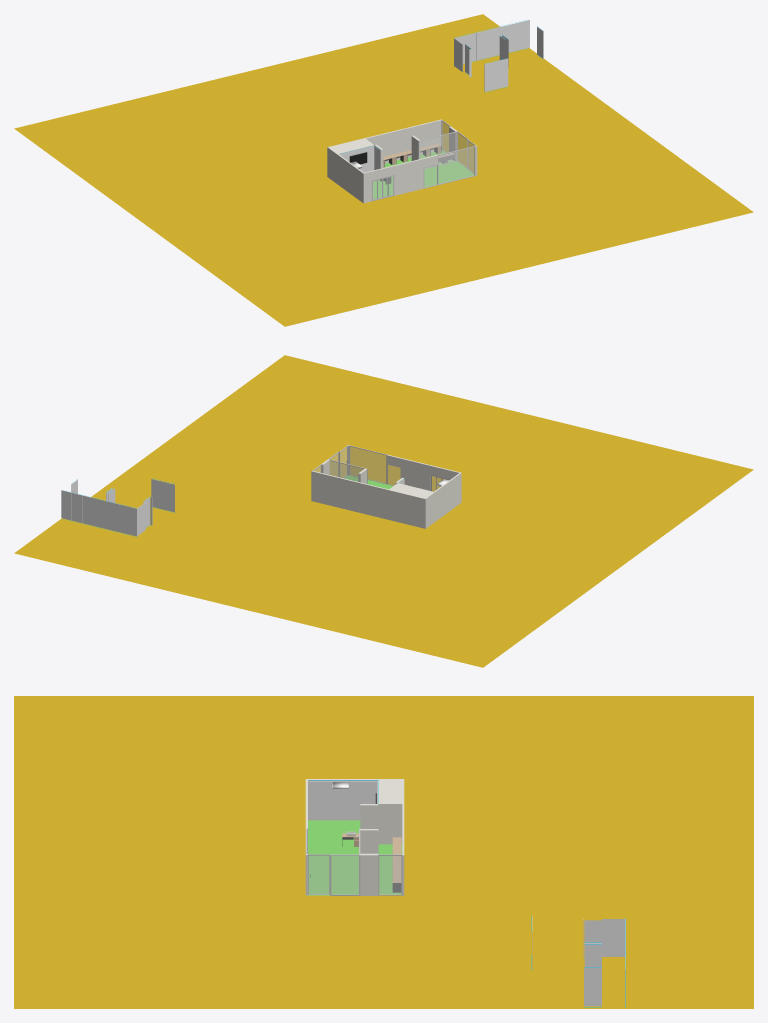
3 views of the same model, one above another, from view 1: azimuth 30°, elevation 25°; view 2: azimuth 150°, elevation 25°; view 3: azimuth 270°, elevation 25° (orthographic). The views are drawn at different scales.
Parts seen in each view (by area): view 1: Plane, Wall_Top_Back, Plane.001, Front_Glass_Wall_Glass, Front_Solid_Wall, Wall_Left, Front_Glass_Wall_Glass.001, Solid_Block_TopLeft; view 2: Plane, Wall_Top_Back, Solid_Block_TopLeft, Front_Glass_Wall_Glass, Wall_Left, Front_Solid_Wall; view 3: Plane, Plane.001, Solid_Block_TopLeft, Right_Sliding_Door_Glass.001, Cladding_Solid_Block_TopLeft_P0.001, Right_Glass_Top_Glass, Right_Solid_Pillar, Right_Sliding_Door_Glass, Cladding_Right_Solid_Pillar_P0, Cladding_Wall_Left_P2, Cladding_Wall_Left_P1, Cladding_Wall_Left_P0.
Part boxes in pixels (bbox=[...]): Plane: bbox=[14, 14, 753, 326]; Wall_Top_Back: bbox=[365, 119, 441, 163]; Plane.001: bbox=[373, 150, 474, 199]; Front_Glass_Wall_Glass: bbox=[438, 147, 474, 183]; Front_Solid_Wall: bbox=[394, 158, 423, 195]; Wall_Left: bbox=[337, 154, 364, 203]; Front_Glass_Wall_Glass.001: bbox=[419, 133, 456, 164]; Solid_Block_TopLeft: bbox=[327, 138, 374, 183]; Plane: bbox=[14, 355, 753, 667]; Wall_Top_Back: bbox=[311, 470, 388, 519]; Solid_Block_TopLeft: bbox=[388, 483, 435, 528]; Front_Glass_Wall_Glass: bbox=[350, 447, 385, 483]; Wall_Left: bbox=[434, 472, 461, 521]; Front_Solid_Wall: bbox=[401, 458, 430, 490]; Plane: bbox=[14, 696, 753, 1008]; Plane.001: bbox=[306, 820, 402, 895]; Solid_Block_TopLeft: bbox=[378, 779, 404, 844]; Right_Sliding_Door_Glass.001: bbox=[331, 856, 358, 894]; Cladding_Solid_Block_TopLeft_P0.001: bbox=[602, 919, 625, 956]; Right_Glass_Top_Glass: bbox=[379, 856, 400, 894]; Right_Solid_Pillar: bbox=[360, 853, 378, 895]; Right_Sliding_Door_Glass: bbox=[309, 856, 328, 893]; Cladding_Right_Solid_Pillar_P0: bbox=[584, 968, 601, 1006]; Cladding_Wall_Left_P2: bbox=[342, 781, 359, 819]; Cladding_Wall_Left_P1: bbox=[324, 781, 341, 819]; Cladding_Wall_Left_P0: bbox=[308, 781, 323, 819].
Size of the model in its own units: 49.47 by 3 by 49.47.
